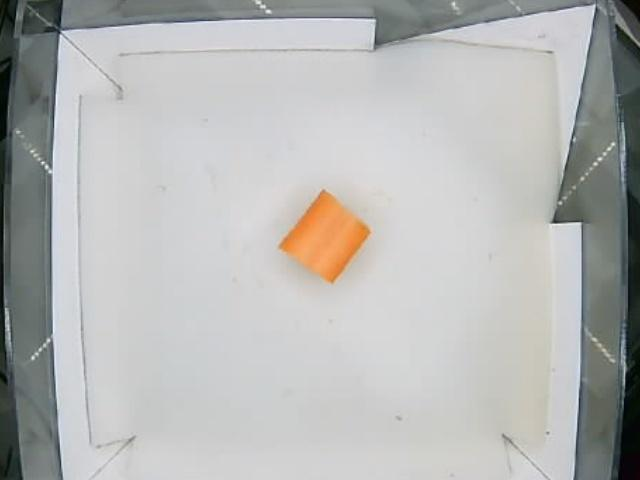Carrot: (282, 190, 371, 280)
